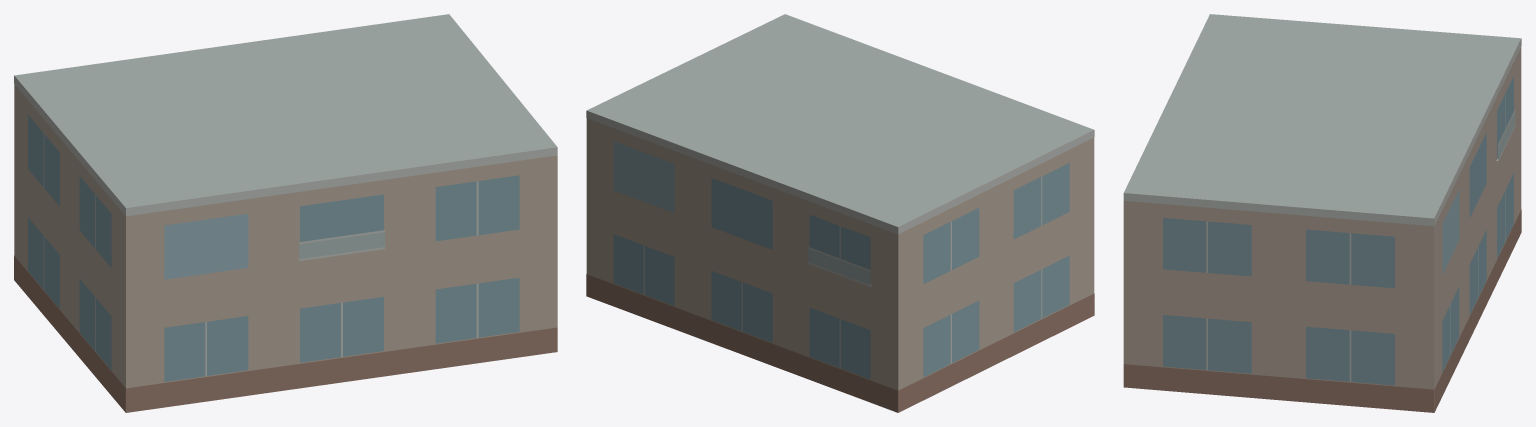
The model's file is survey-upis-32669709.glb.
3 views of the same model, side by side, from view 1: azimuth 30°, elevation 25°; view 2: azimuth 150°, elevation 25°; view 3: azimuth 270°, elevation 25° (orthographic). The views are drawn at different scales.
Parts seen in each view (by area): view 1: survey-upis-32669709.tmp; view 2: survey-upis-32669709.tmp; view 3: survey-upis-32669709.tmp.
Boxes of the visible parts, left/top/right/bottom form: survey-upis-32669709.tmp: left=14, top=14, right=557, bottom=412; survey-upis-32669709.tmp: left=586, top=14, right=1094, bottom=412; survey-upis-32669709.tmp: left=1123, top=14, right=1521, bottom=412.
Size of the model in its own units: 13.78 by 6.1 by 11.33.
